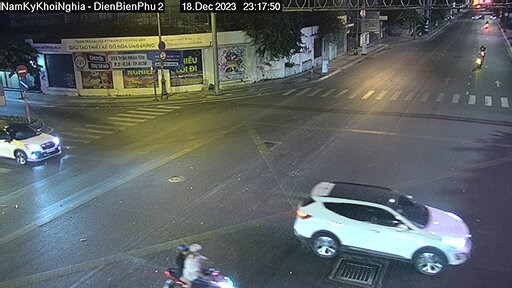car: (289, 162, 479, 276), (1, 111, 61, 168)
motorbike: (158, 250, 234, 288), (471, 40, 491, 56), (472, 57, 488, 70)
